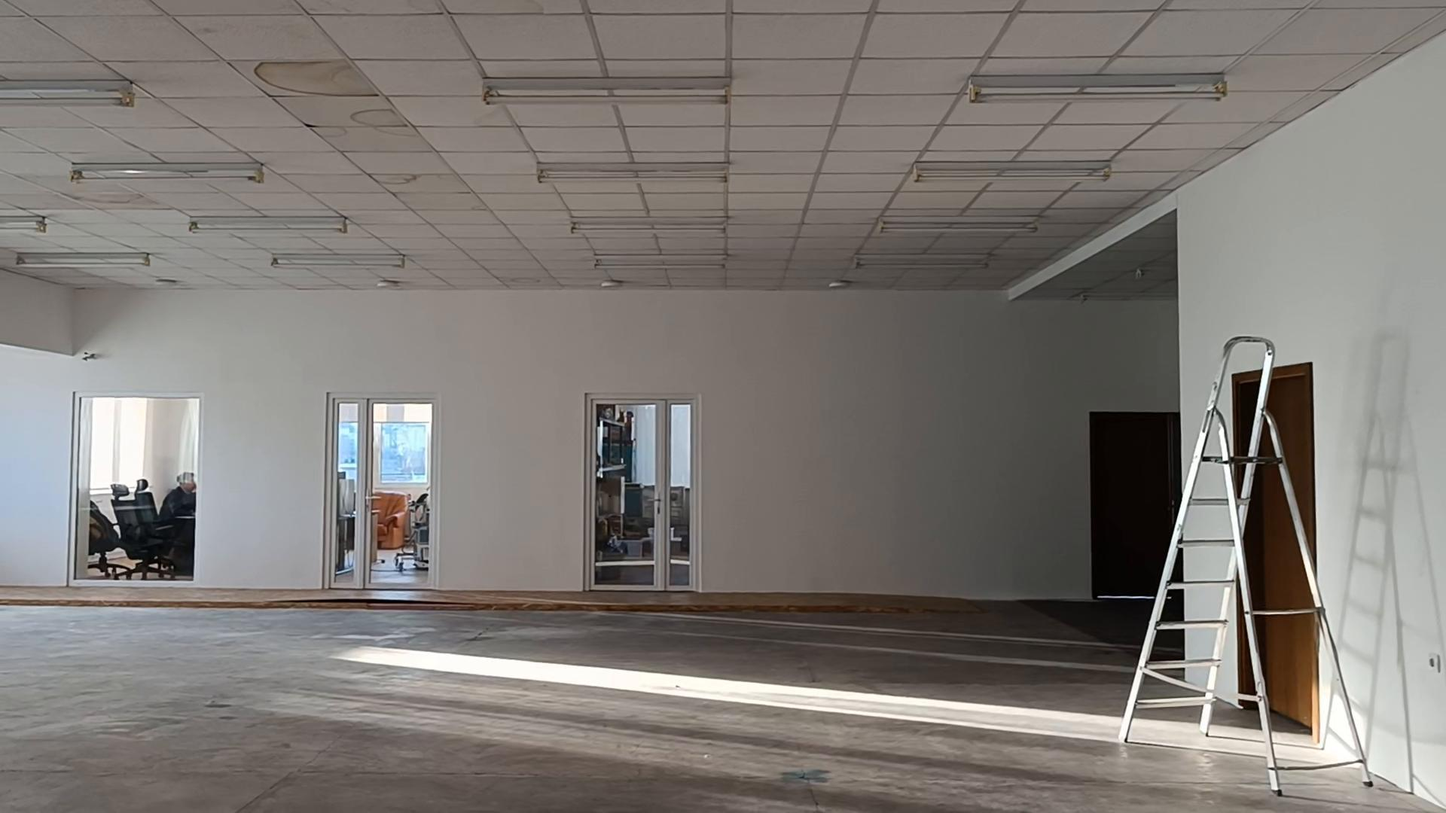ceiling: (0, 0, 1445, 288)
floor: (0, 604, 1438, 812)
wall: (1, 45, 1445, 812)
